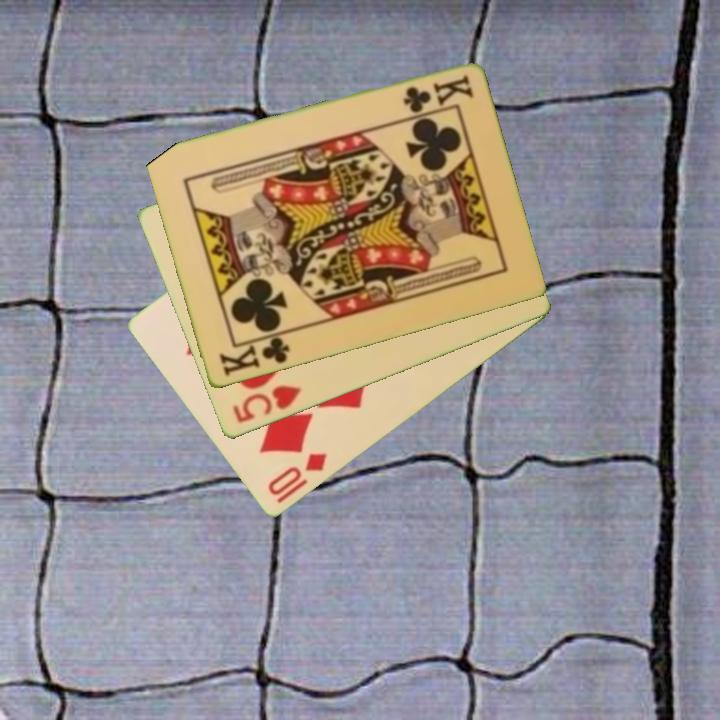10d: (264, 449, 330, 507)
5h: (229, 381, 305, 427)
Kc: (215, 329, 293, 381), (399, 72, 476, 116)
